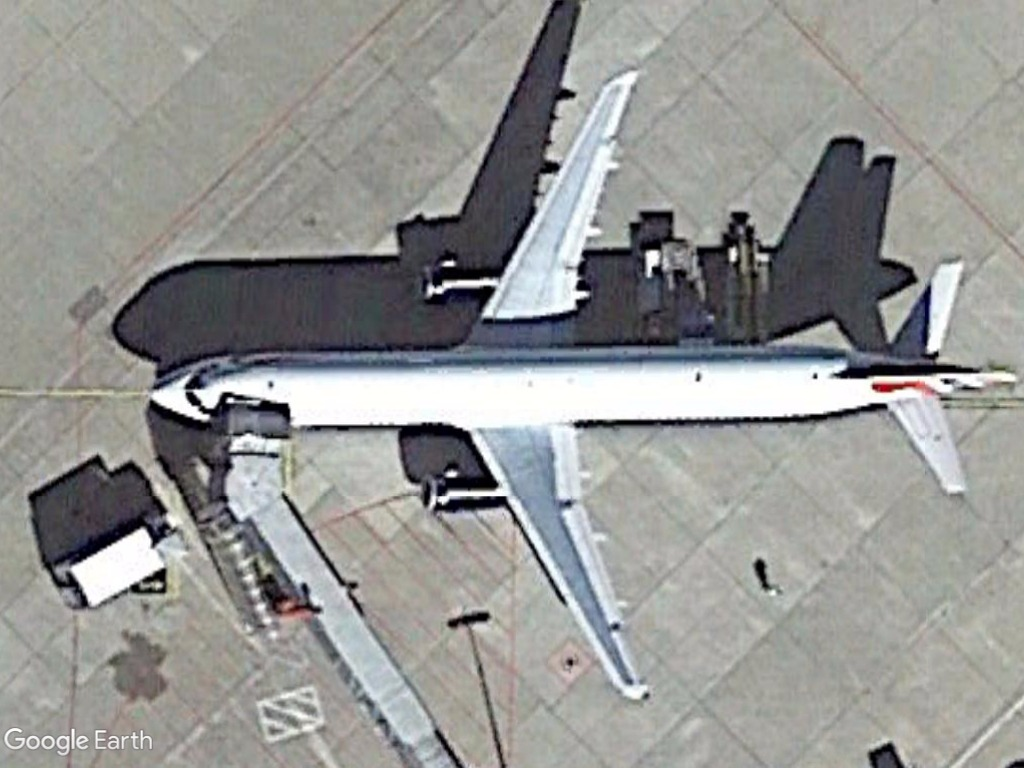airliner: (139, 61, 1012, 707)
